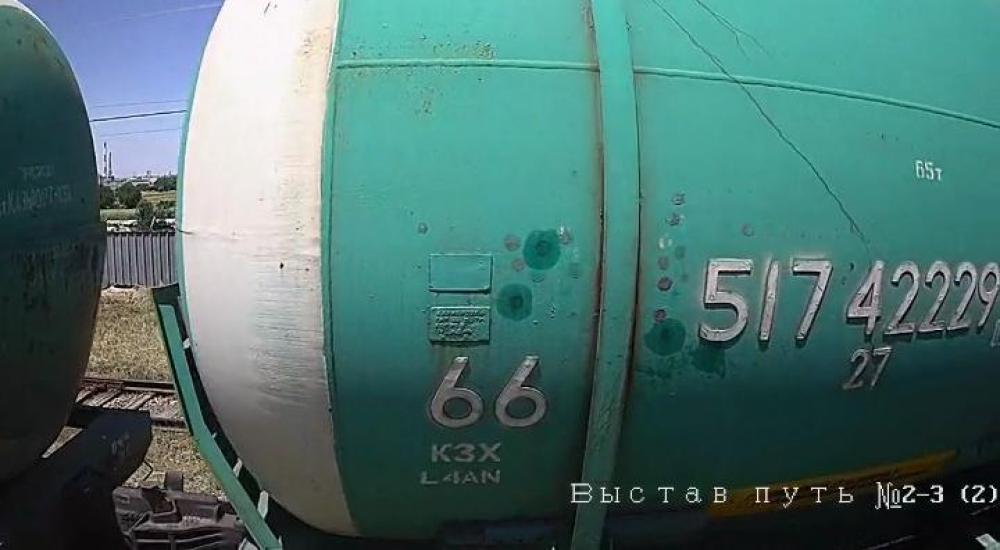Wagon-number: (694, 248, 1000, 347)
